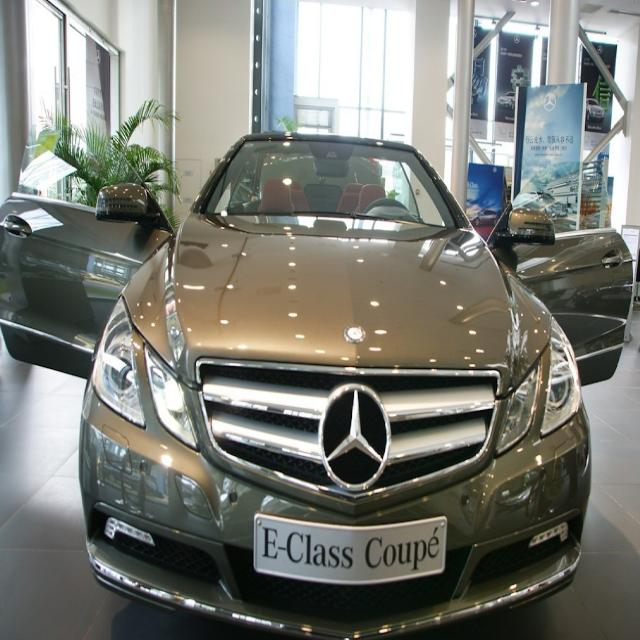front_bumper: (77, 382, 592, 640)
front_glass: (197, 134, 461, 235)
front_left_side_door: (487, 152, 634, 395)
front_left_side_light: (485, 312, 583, 463)
front_left_side_mirror: (504, 204, 560, 250)
front_right_side_door: (0, 129, 171, 382)
front_right_side_light: (90, 291, 200, 457)
front_right_side_mirror: (96, 180, 155, 232)
